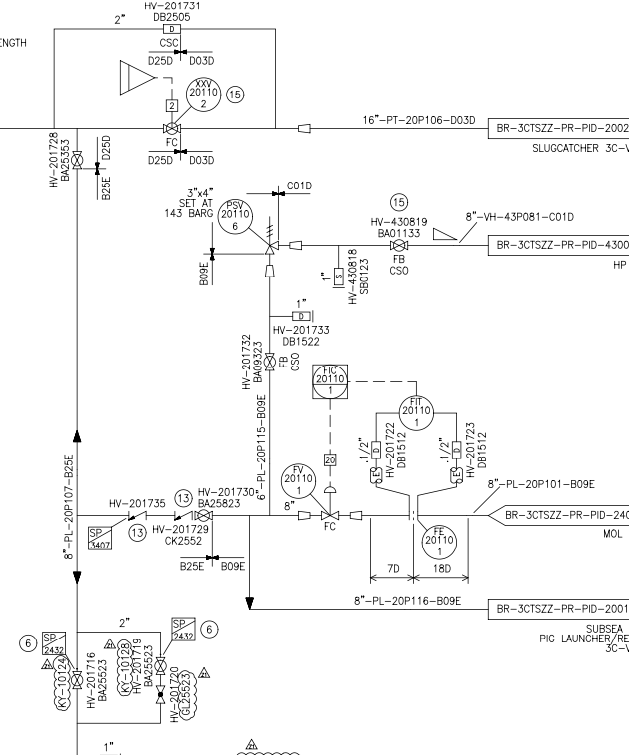Instrument: (273, 452, 323, 504), (386, 389, 440, 432), (213, 194, 258, 241), (177, 72, 225, 116), (418, 520, 460, 562)
